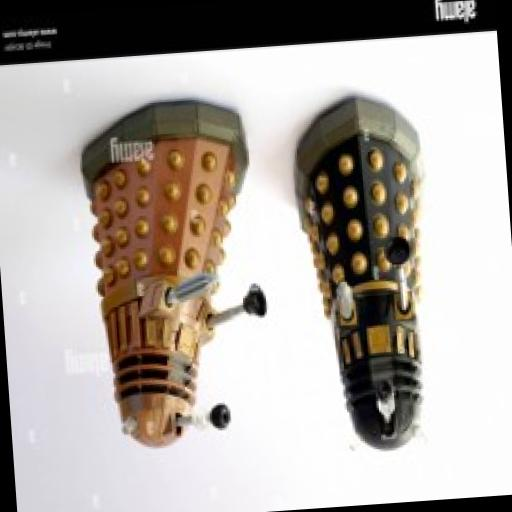dalek: (74, 86, 280, 460), (284, 93, 450, 458)
